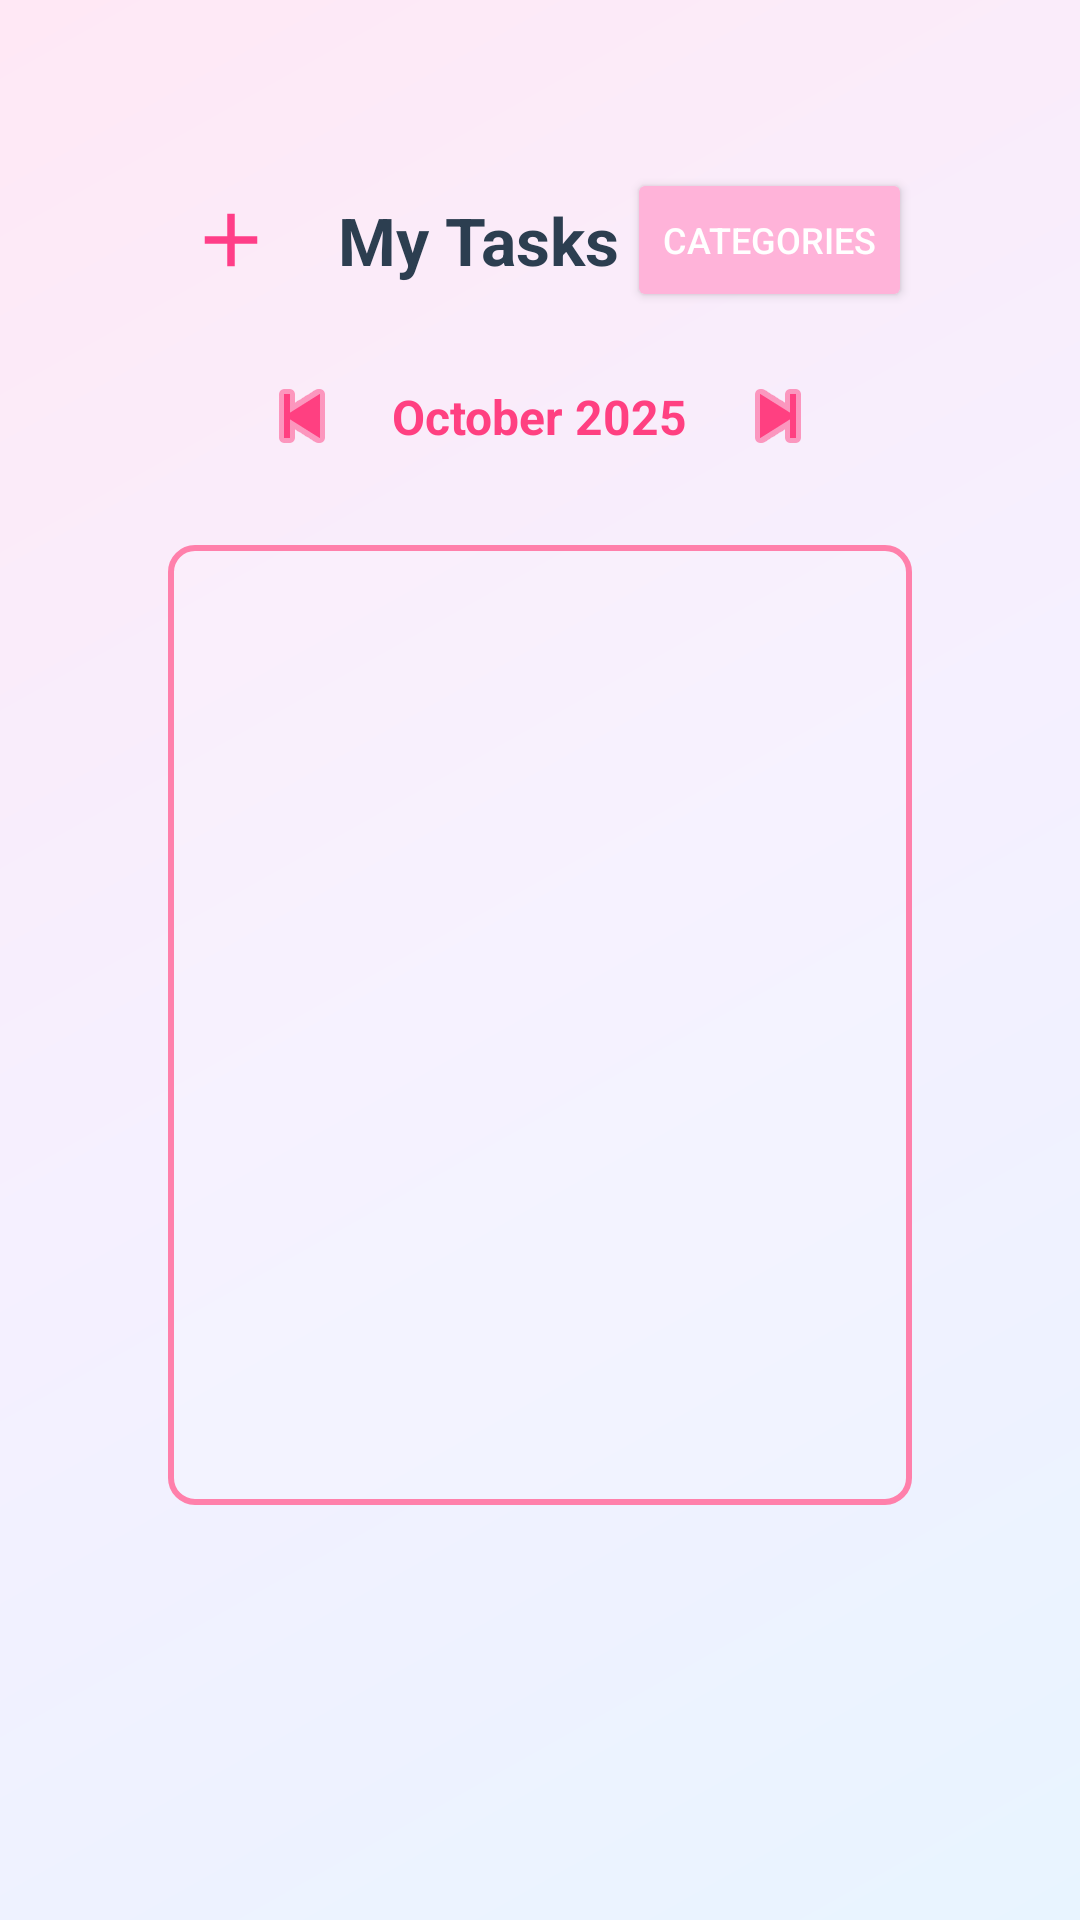

Screen size 1080x1920. Icon name, then its center in pixels as point (x, y):
Add Task: point (231, 240)
Next Week: point (778, 416)
Previous Week: point (302, 416)
